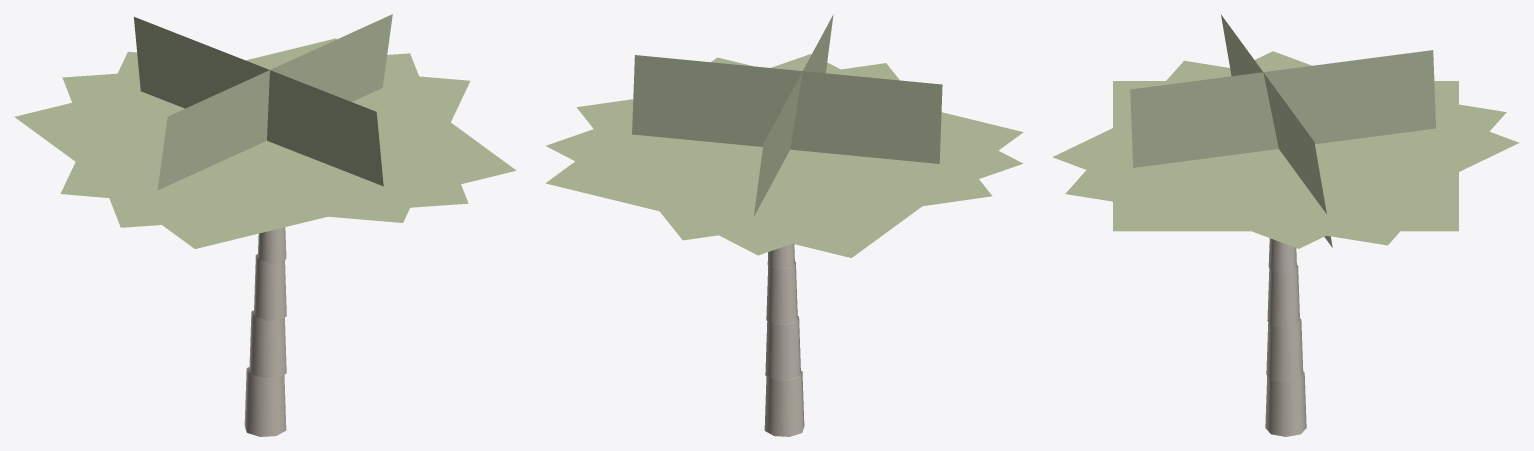
Rendered from palm-v1.glb.
The picture shows the model from 3 angles, left to right: view 1: azimuth 30°, elevation 25°; view 2: azimuth 150°, elevation 25°; view 3: azimuth 270°, elevation 25°; orthographic projection. The views are drawn at different scales.
Parts seen in each view (by area): view 1: palm-v1.lod0; view 2: palm-v1.lod0; view 3: palm-v1.lod0.
Boxes of the visible parts, x1,y1,x2,y2 form: palm-v1.lod0: (14,14,516,436); palm-v1.lod0: (545,14,1023,436); palm-v1.lod0: (1052,15,1519,436).
Size of the model in its own units: 9.74 by 8.1 by 9.73.
